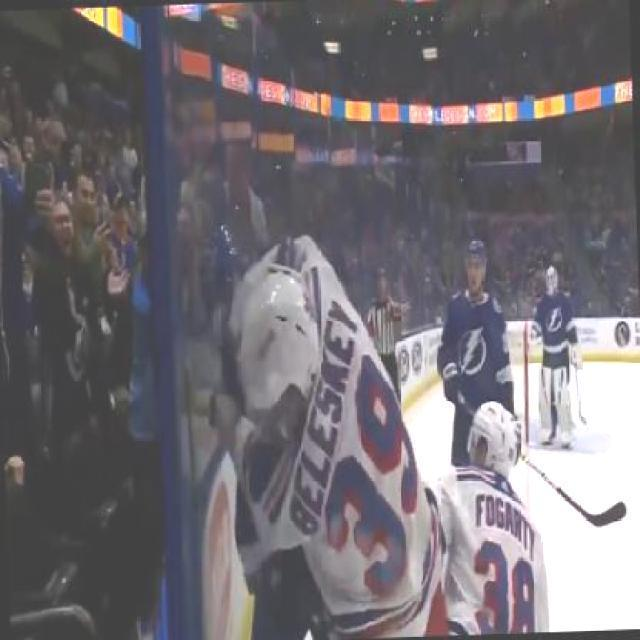fight: (206, 218, 446, 638)
